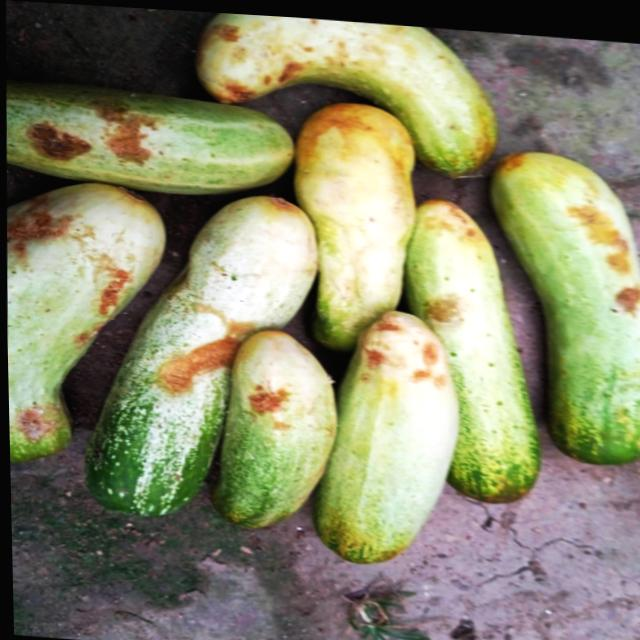Belly-Rot: (4, 184, 139, 350), (148, 250, 255, 404), (21, 87, 168, 177), (200, 9, 325, 104), (358, 282, 463, 386), (562, 179, 640, 315), (231, 370, 302, 445), (9, 387, 72, 453), (434, 197, 480, 248)
